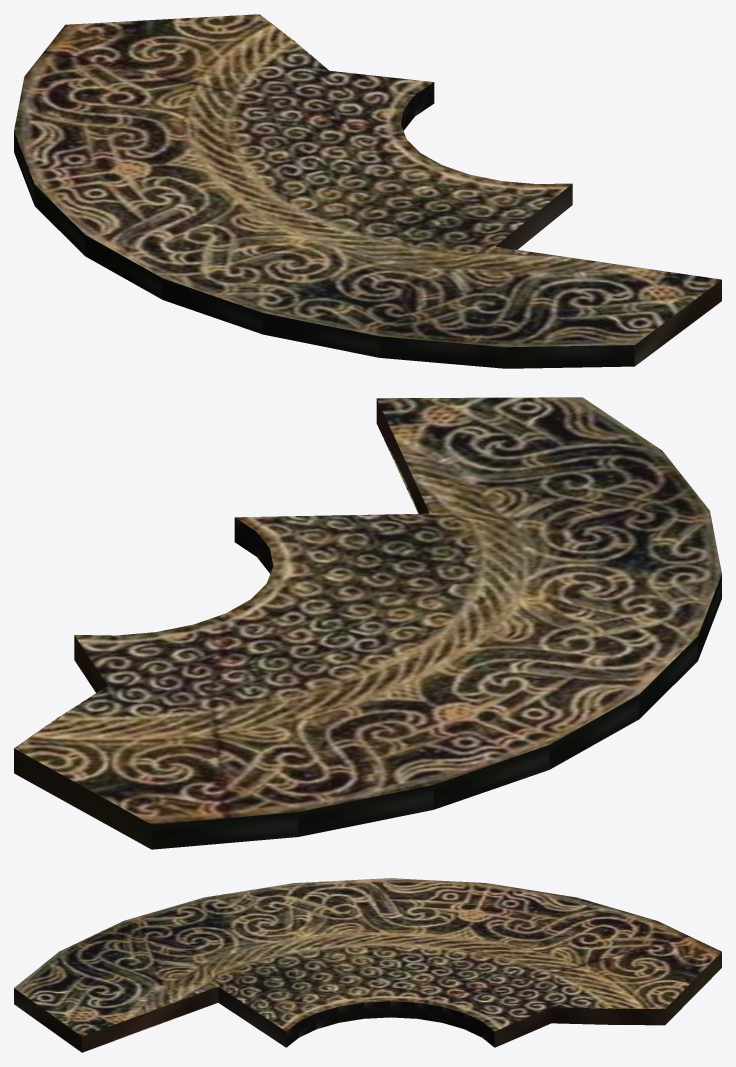
The model's file is 汉代玉璧碎片2.FBX.
3 views of the same model, one above another, from view 1: azimuth 30°, elevation 25°; view 2: azimuth 150°, elevation 25°; view 3: azimuth 270°, elevation 25° (orthographic). The views are drawn at different scales.
Visible parts, largest first — view 1: 对象001; view 2: 对象001; view 3: 对象001.
Part boxes in pixels (x1,y1,x2,y2): 对象001: [14, 14, 721, 368]; 对象001: [14, 397, 721, 849]; 对象001: [14, 878, 721, 1052].
Bounding box in the file's own units: 27.62 × 1.32 × 52.15.
1 material, 1 textured.
